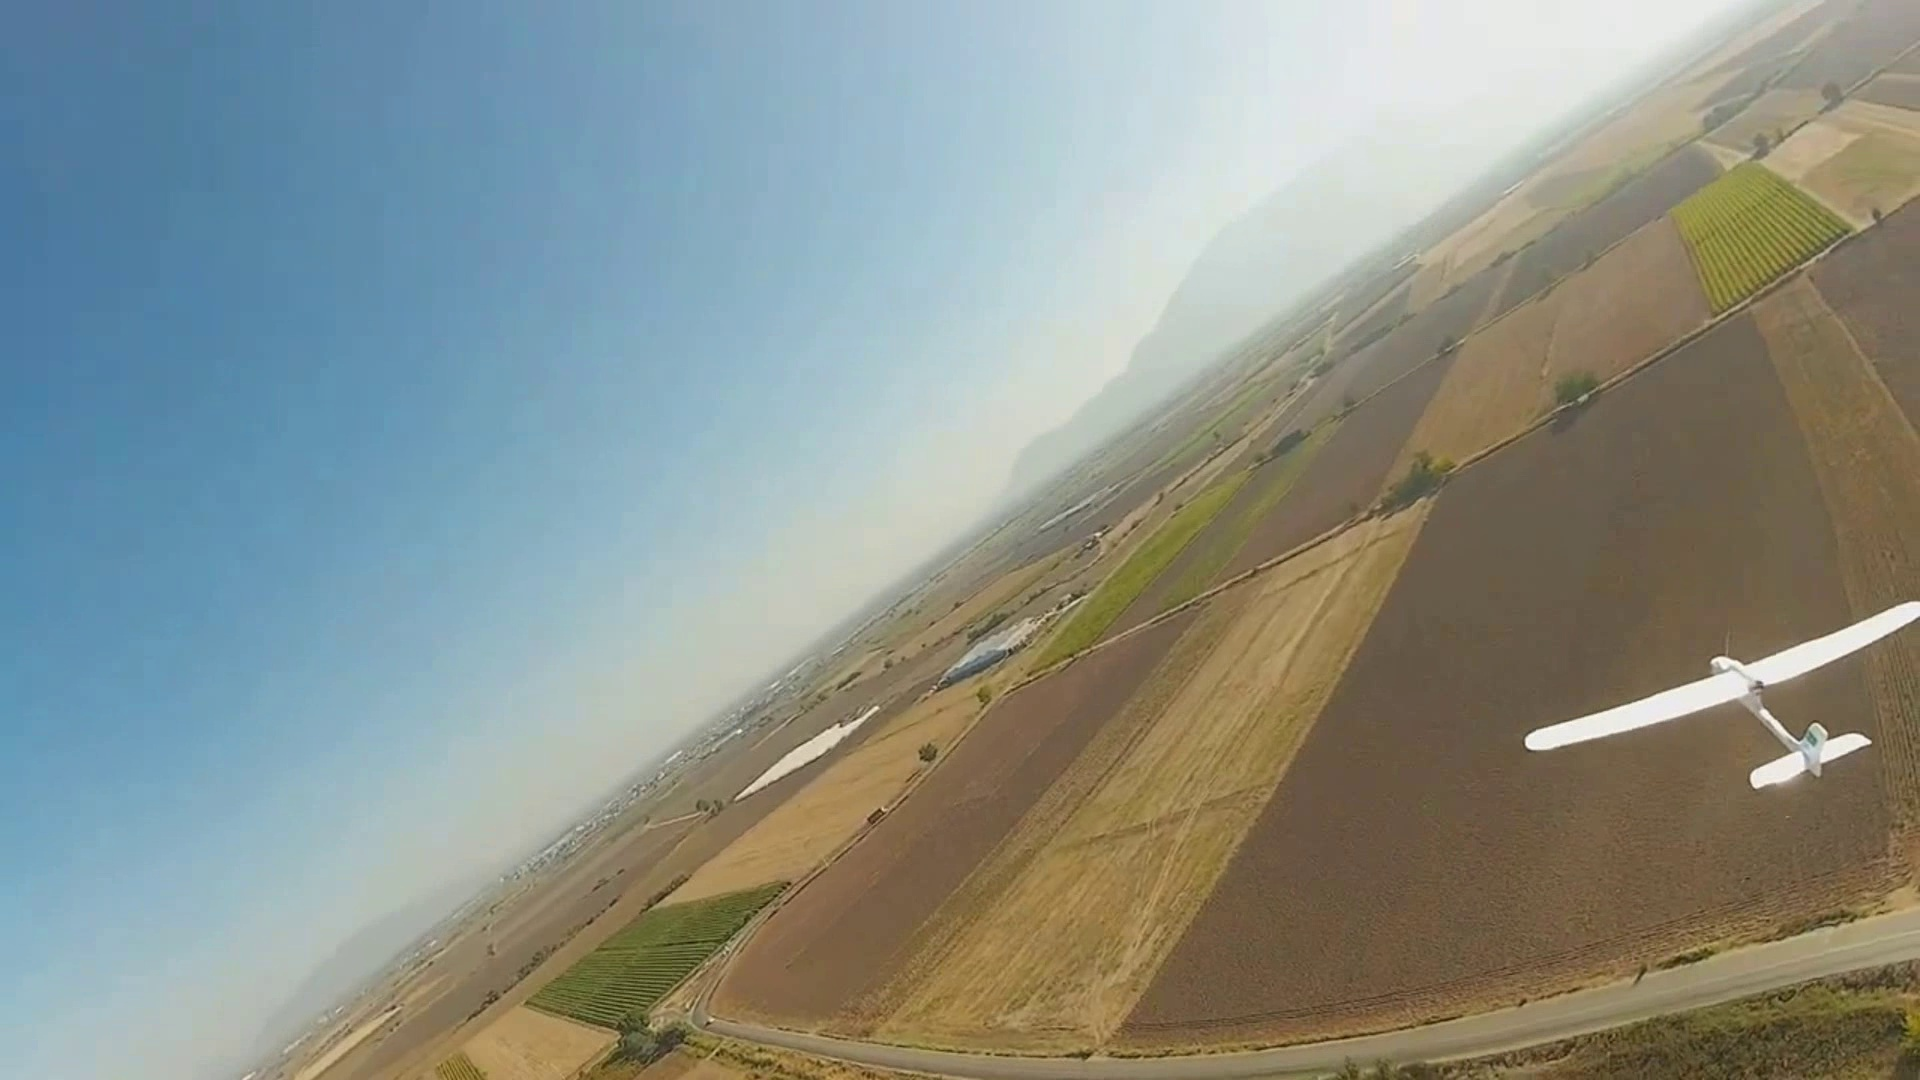airplane: (49, 7, 1919, 1063)
